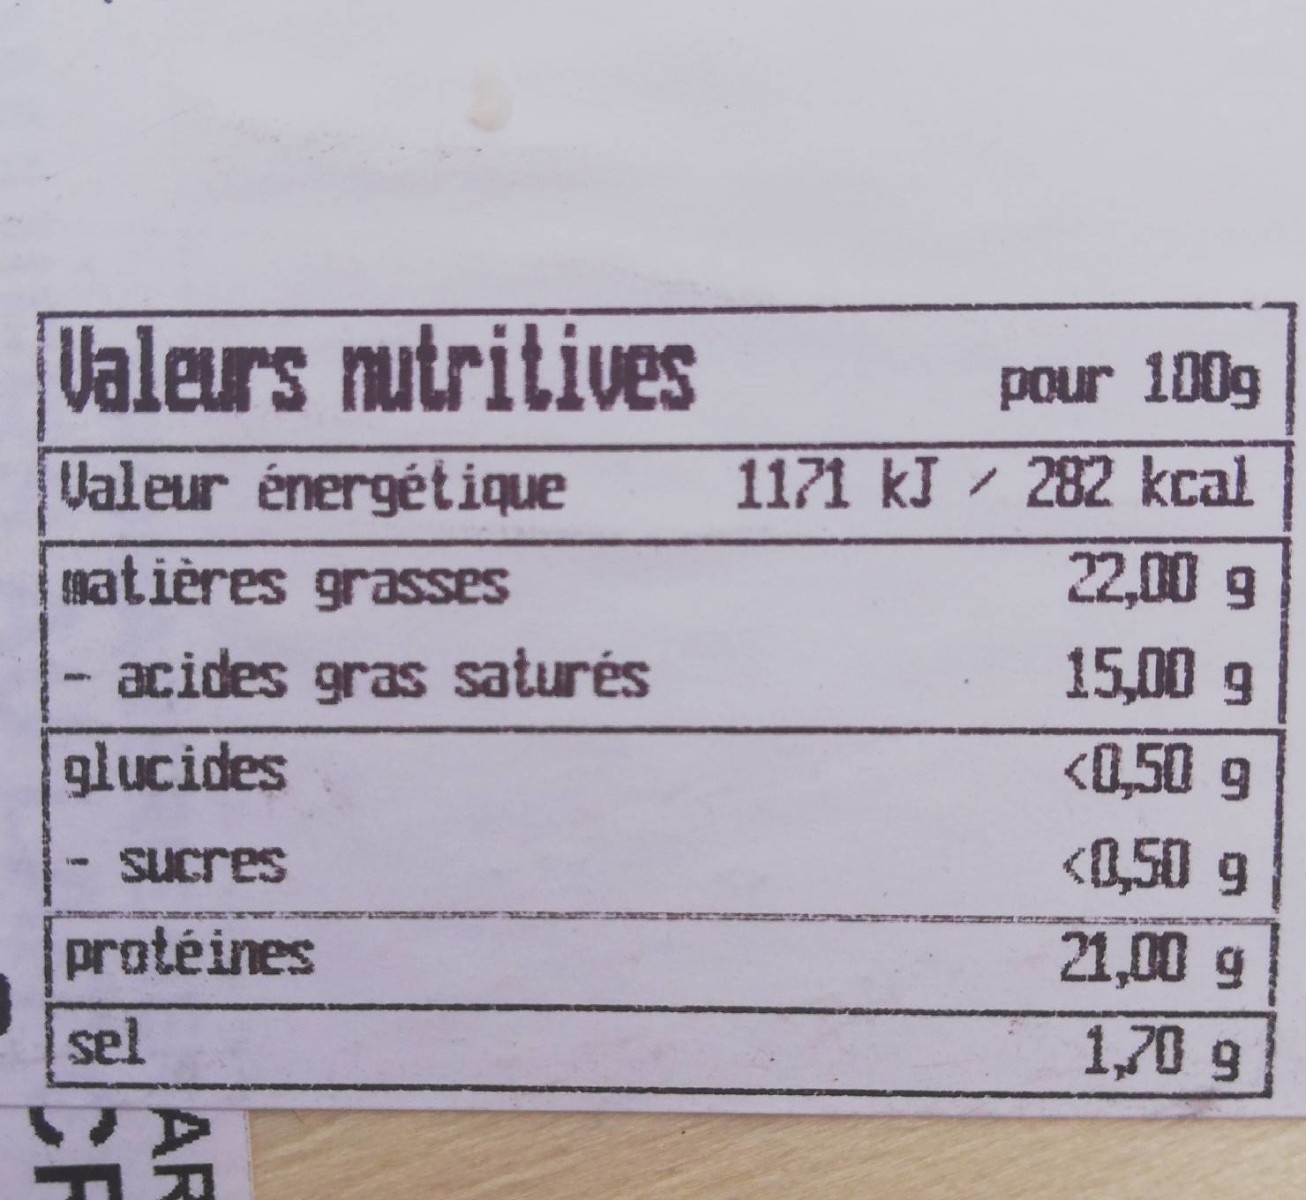column: (48, 317, 714, 1086), (735, 315, 1265, 1092)
table: (34, 301, 1288, 1090)
